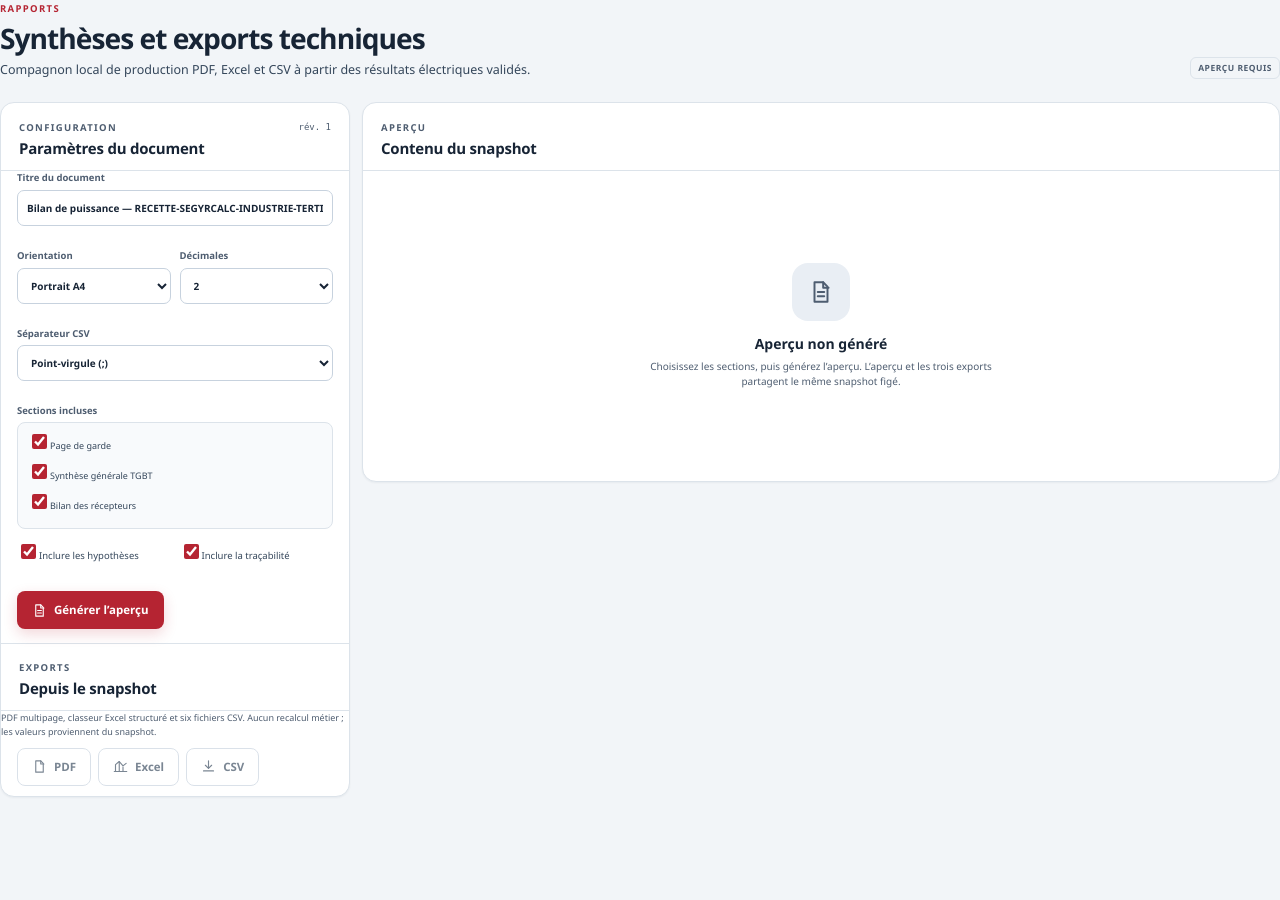
Test: ReportsScreen › utilise le chemin natif Windows et confirme l'?crasement
Click the button with test id "report-preview-generate". click: [90, 610]
box: [17,591,164,629]
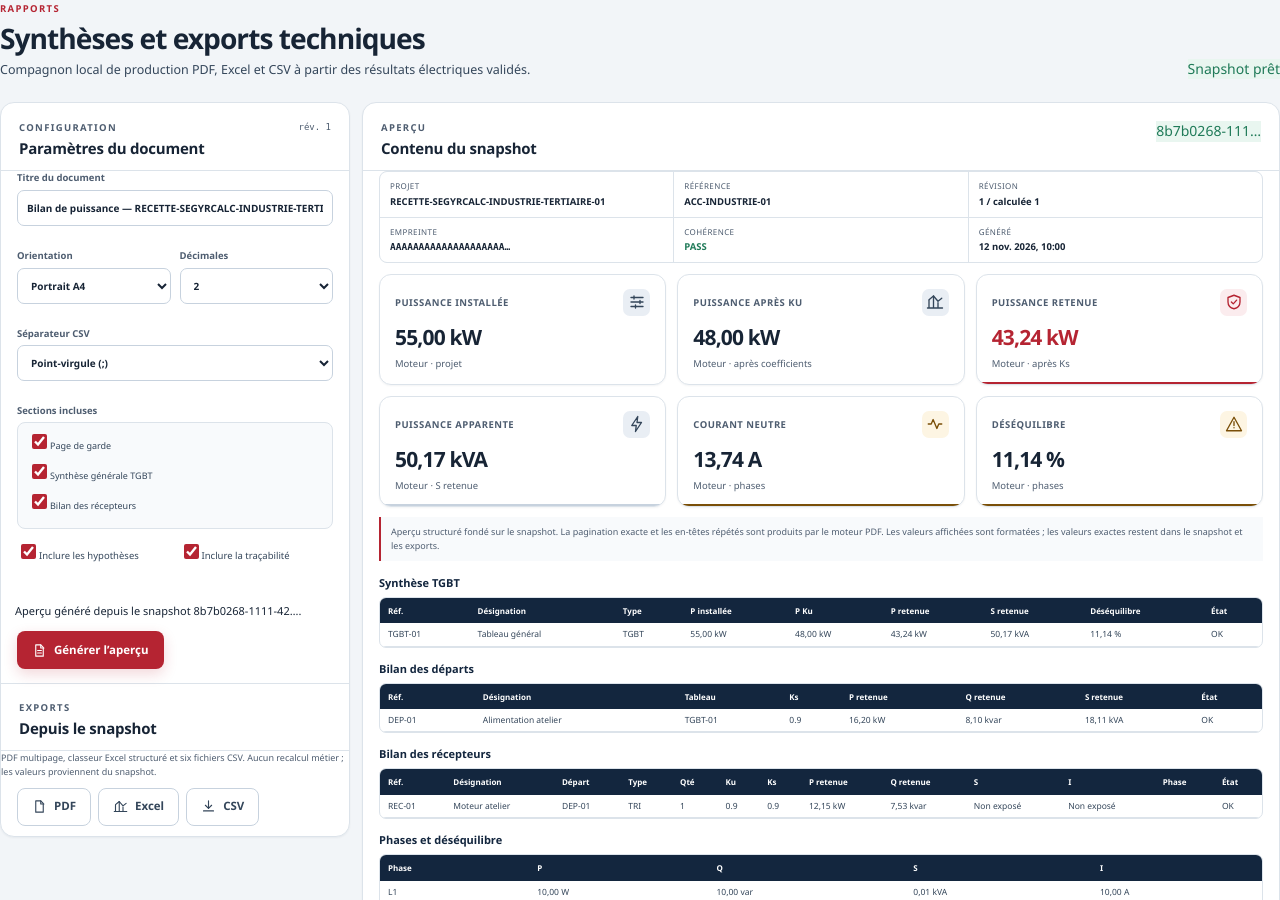
Click the button with test id "report-export-pdf". click: [54, 807]
box: [17,788,91,826]
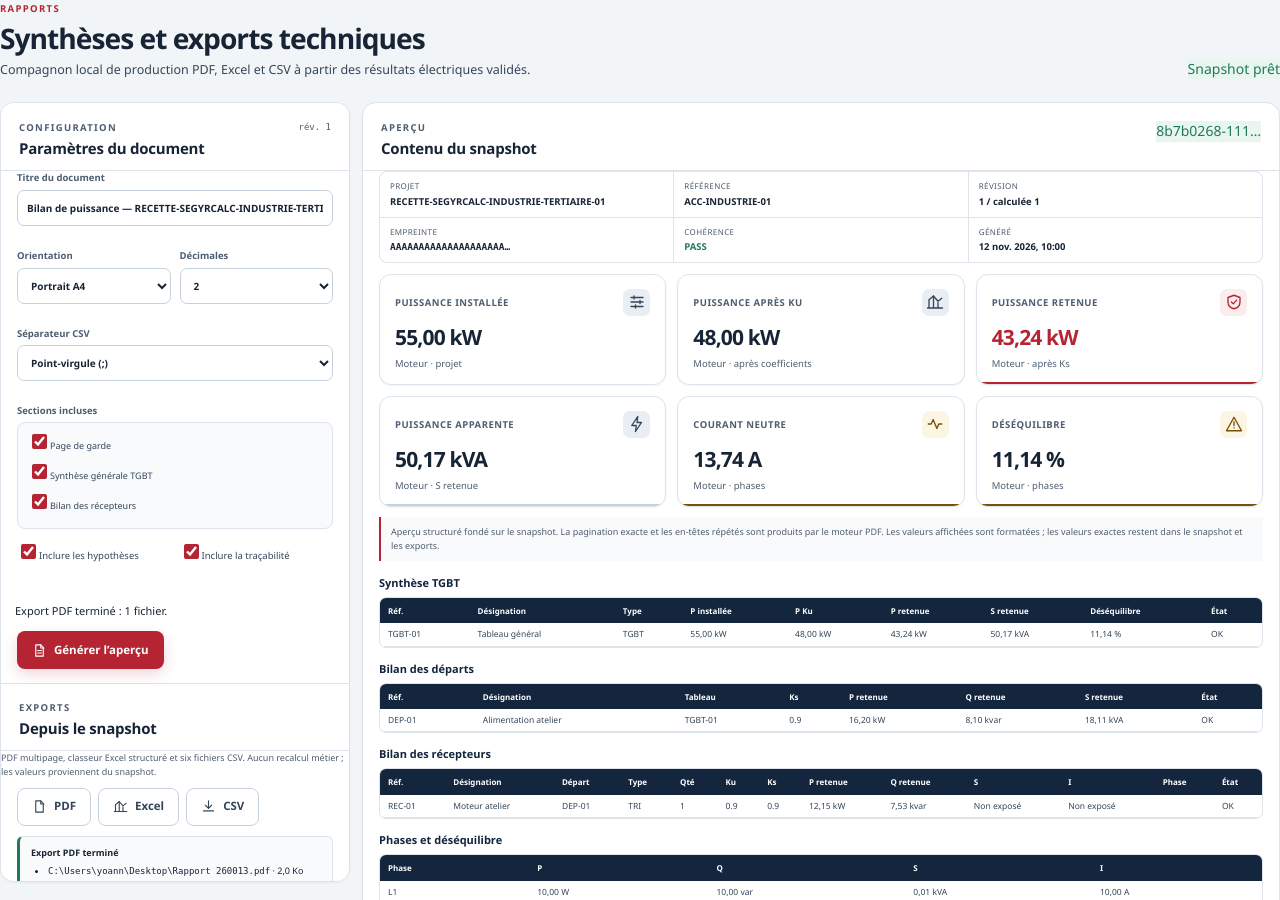
Check: the element with test id "report-export-result" is shown, box [17,836,333,882]
